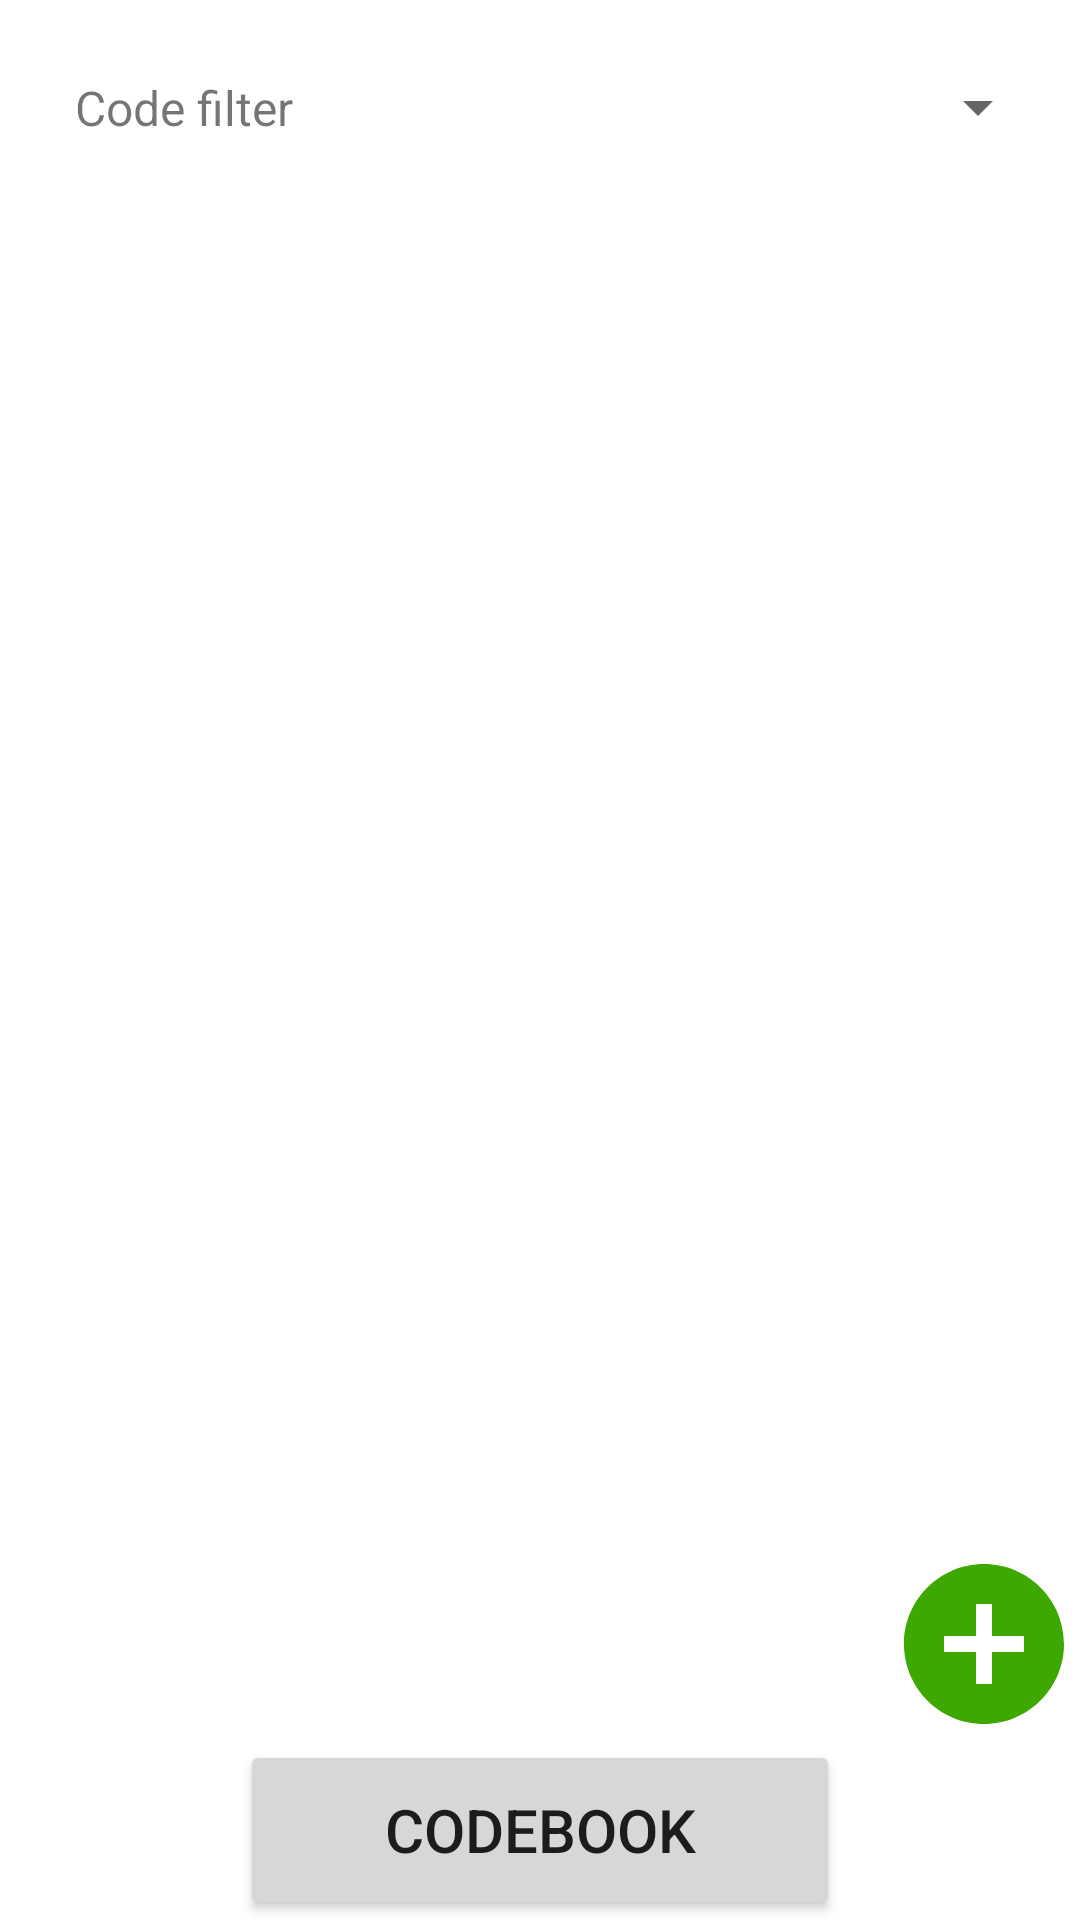

Named icons in this screenshot (1080w x 1920h) and their bounding boxes, (x1, y1, x2, y2):
add circle: (903, 1564, 1064, 1724)
